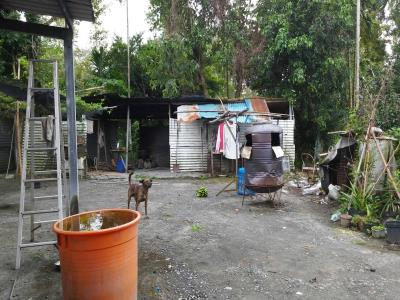bucket: (49, 207, 145, 299), (239, 124, 285, 191)
